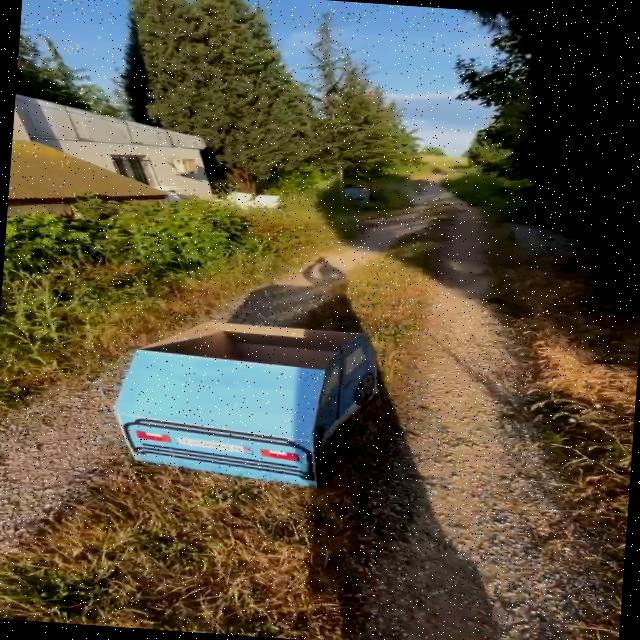blue_car: (70, 275, 454, 512)
